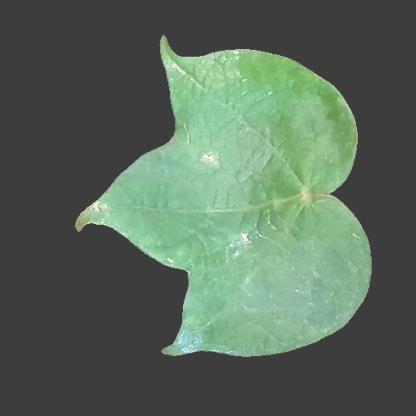healthy: (179, 109, 329, 271), (206, 206, 336, 330), (203, 58, 283, 112), (110, 177, 172, 231)
